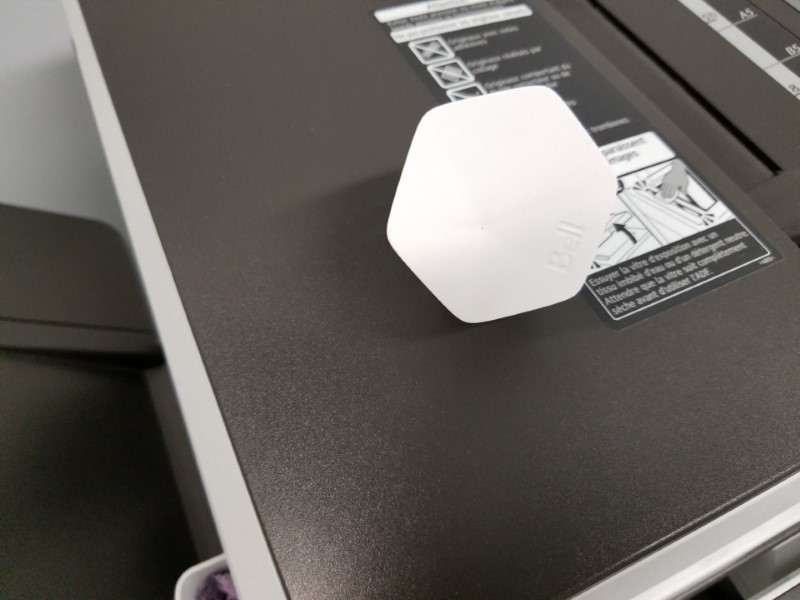pod: (382, 79, 621, 325)
